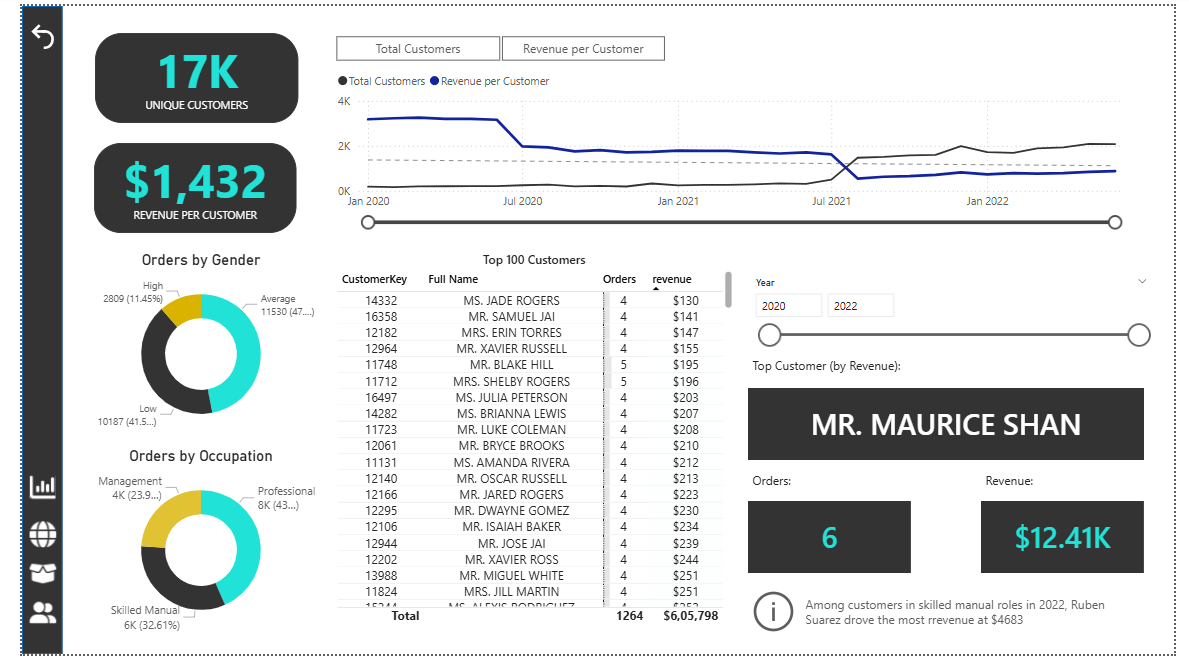

Layout of this report page (visuals, bound fields, positions):
{"tool":"powerbi","page":{"name":"Customer Detail","canvas":[1280,720],"ordinal":1},"visuals":[{"type":"shape","box":[0,0,45,720],"z":0,"group":"g1"},{"type":"card","fields":{"Values":["Table.Total Customers"]},"box":[81,30,225.6,100],"z":0},{"type":"actionButton","box":[4,10.7,37.6,50.1],"z":1000,"group":"g1"},{"type":"card","fields":{"Values":["Table.Average Revenue per Customer"]},"box":[80,152,225,100],"z":1000},{"type":"donutChart","title":"Orders by Gender","fields":{"Category":["Customer Lookup.Income Level"],"Y":["Table.Total Orders"]},"box":[63.3,272.2,271.1,210],"z":3000},{"type":"actionButton","box":[4.4,511.8,37.1,50.6],"z":3000,"group":"g1"},{"type":"donutChart","title":"Orders by Occupation","fields":{"Category":["Customer Lookup.Occupation"],"Y":["Table.Total Orders"]},"box":[63.3,490,271.1,210],"z":4000},{"type":"actionButton","box":[4,564.2,37.6,50.1],"z":4000,"group":"g1"},{"type":"tableEx","title":"Top 100 Customers","fields":{"Values":["Customer Lookup.CustomerKey","Customer Lookup.Customer Full Name (CC)","Table.Total Orders","Table.Total revenue"]},"box":[344.7,272.1,449.5,418.3],"z":5000},{"type":"actionButton","box":[4,608.1,37.6,50.1],"z":5000,"group":"g1"},{"type":"card","fields":{"Values":["Min(Customer Lookup.Customer Full Name (CC))"]},"box":[806.7,424.7,440,80],"z":6000},{"type":"actionButton","box":[4,651,37.6,50.1],"z":6000,"group":"g1"},{"type":"textbox","box":[806.7,385.8,190,38.9],"z":7000},{"type":"card","fields":{"Values":["Table.Total Orders"]},"box":[806.7,550.1,181.1,80],"z":8000},{"type":"card","fields":{"Values":["Table.Total revenue"]},"box":[1065.6,550.1,181.1,80],"z":9000},{"type":"textbox","box":[806.7,513.5,190,37.8],"z":10000},{"type":"textbox","box":[1065.6,513.5,190,37.8],"z":11000},{"type":"slicer","fields":{"Values":["AdventureWorks Calendar Lookup.Date.Variation.Date Hierarchy.Year"]},"box":[802.2,295.6,460,96.7],"z":12000},{"type":"group","id":"g1","title":"Group 1","box":[0,0,45,720],"z":13000},{"type":"slicer","fields":{"Values":["Customer Selection Metric.Customer Selection Metric"]},"box":[323,27,415,36],"z":14000},{"type":"lineChart","fields":{"Category":["AdventureWorks Calendar Lookup.Year Hierarchy.Year","AdventureWorks Calendar Lookup.Year Hierarchy.Start of Month","AdventureWorks Calendar Lookup.Year Hierarchy.Start of Week","AdventureWorks Calendar Lookup.Year Hierarchy.Date"],"Y":["Table.Total Customers","Table.Average Revenue per Customer"]},"box":[345,63,898,188],"z":14001},{"type":"actionButton","box":[806.7,644.4,410,56.7],"z":14002}]}

Visuals, with their boxes on the page's 1280x720 design canvas (x1, y1, x2, y2). These are canvas units, not pixel positions in the 1189x663 screenshot, which may show the page scaled, cropped or inside an application window:
shape: <box>0,0,45,720</box>
card - Table.Total Customers: <box>81,30,307,130</box>
actionButton: <box>4,11,42,61</box>
card - Table.Average Revenue per Customer: <box>80,152,305,252</box>
"Orders by Gender" donutChart: <box>63,272,334,482</box>
actionButton: <box>4,512,42,562</box>
"Orders by Occupation" donutChart: <box>63,490,334,700</box>
actionButton: <box>4,564,42,614</box>
"Top 100 Customers" tableEx: <box>345,272,794,690</box>
actionButton: <box>4,608,42,658</box>
card - Min(Customer Lookup.Customer Full Name (CC)): <box>807,425,1247,505</box>
actionButton: <box>4,651,42,701</box>
textbox: <box>807,386,997,425</box>
card - Table.Total Orders: <box>807,550,988,630</box>
card - Table.Total revenue: <box>1066,550,1247,630</box>
textbox: <box>807,514,997,551</box>
textbox: <box>1066,514,1256,551</box>
slicer - AdventureWorks Calendar Lookup.Date.Variation.Date Hierarchy.Year: <box>802,296,1262,392</box>
"Group 1" group: <box>0,0,45,720</box>
slicer - Customer Selection Metric.Customer Selection Metric: <box>323,27,738,63</box>
lineChart - AdventureWorks Calendar Lookup.Year Hierarchy.Year x AdventureWorks Calendar Lookup.Year Hierarchy.Start of Month: <box>345,63,1243,251</box>
actionButton: <box>807,644,1217,701</box>
